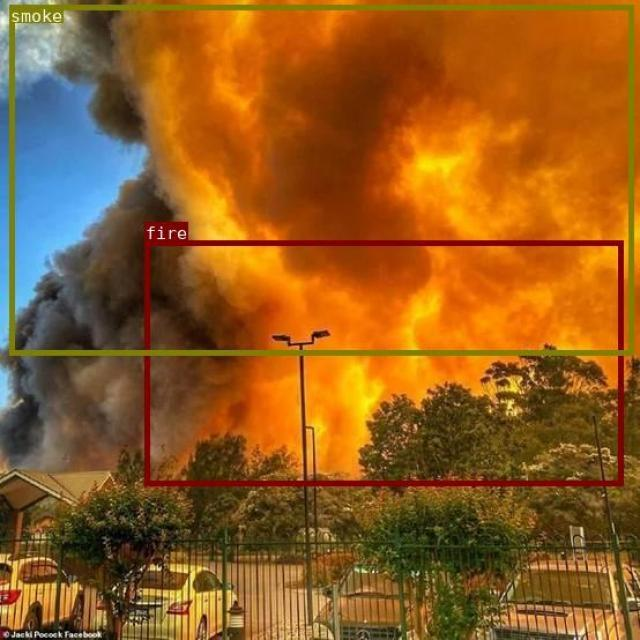fire: (143, 240, 622, 485)
smoke: (9, 3, 632, 354)
